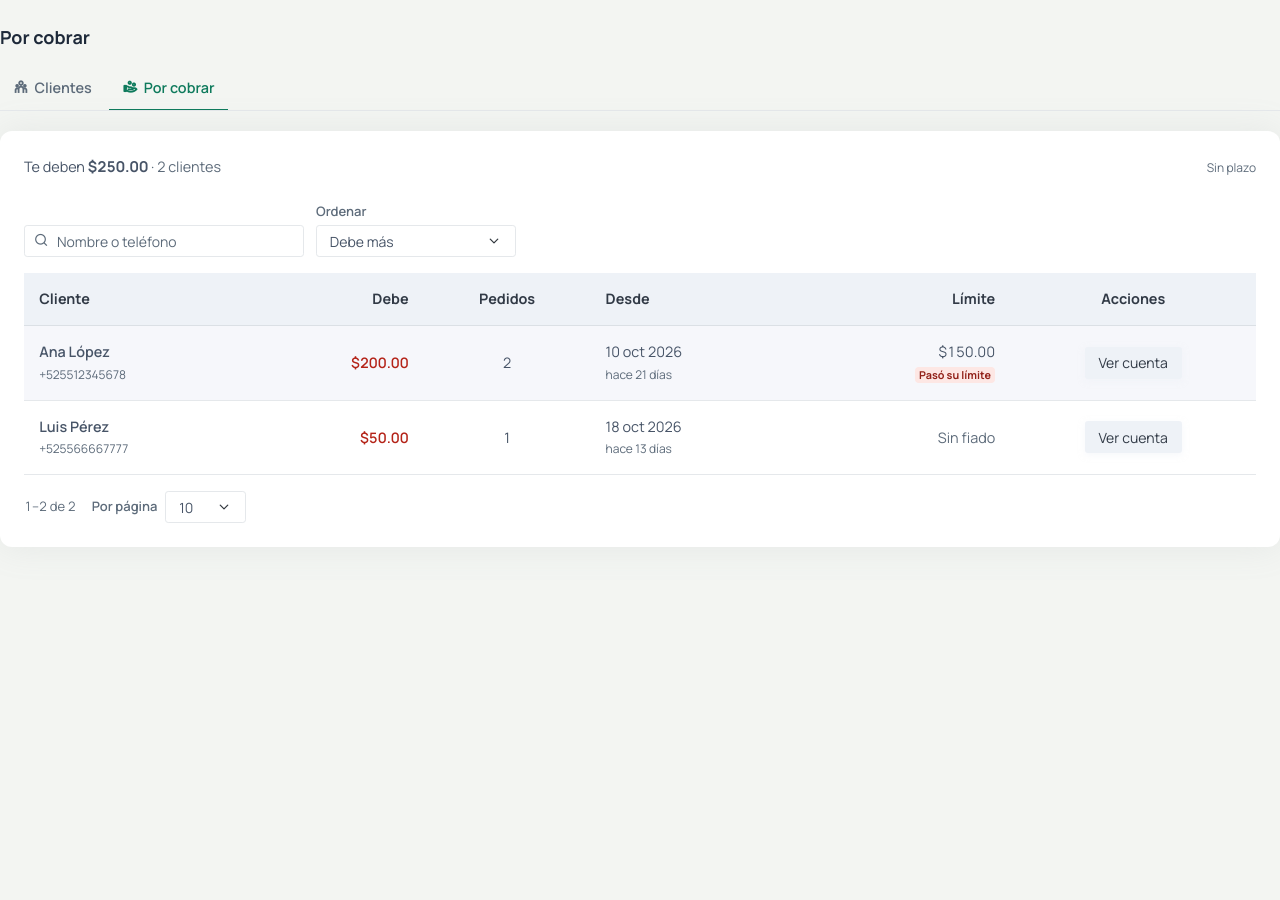
ReceivablesPage › opens the account of a customer without a record by their phone
Click the button with aria-label "Ver cuenta de Luis Pérez" at (1133, 437), box [1085,422,1182,453]
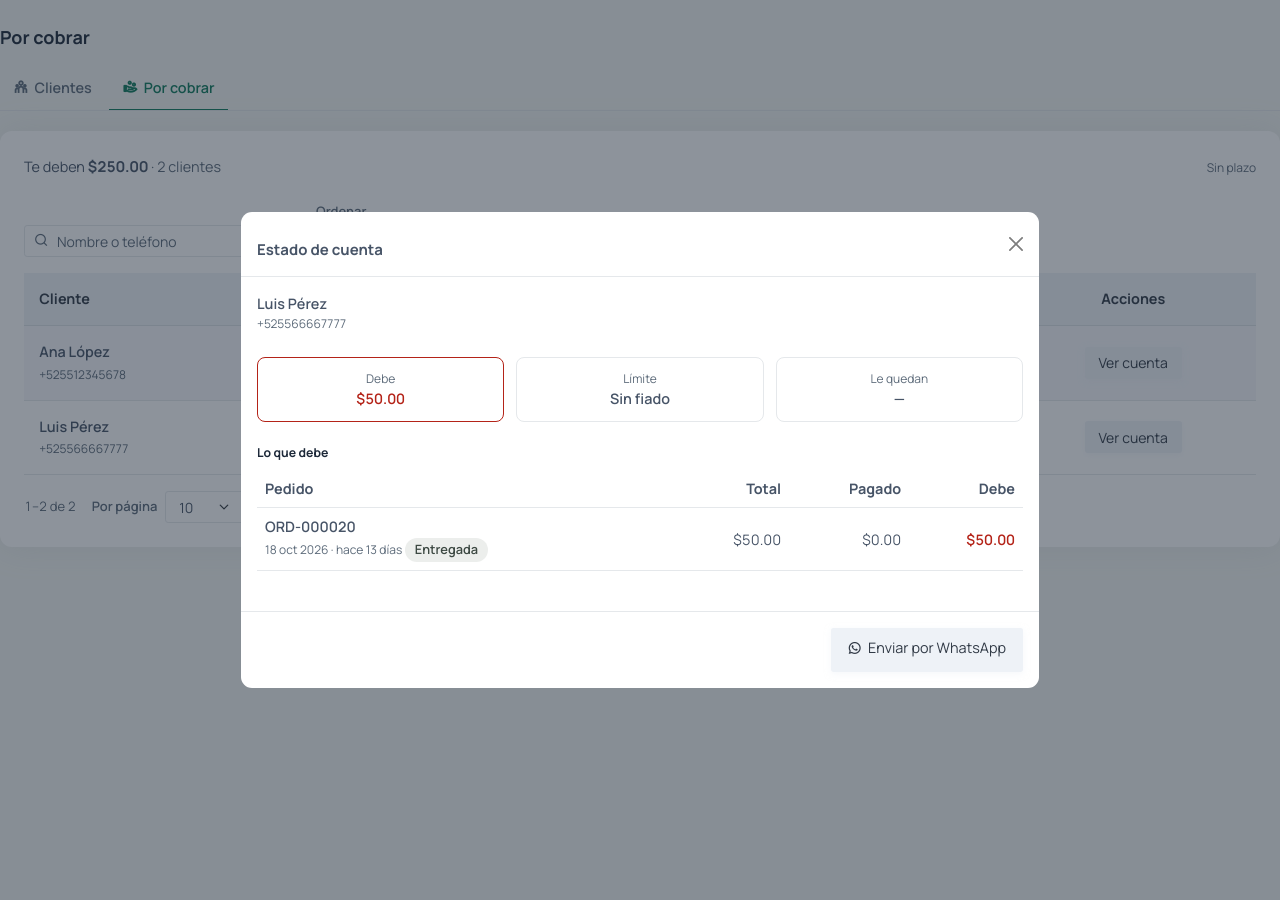
Now the text "ORD-000020" is shown, box [265,517,356,536]
